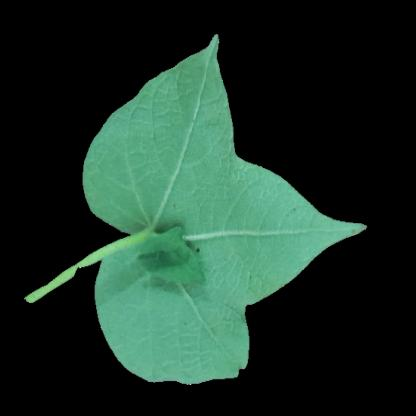curl_stage2: (122, 298, 245, 368), (155, 77, 217, 213), (217, 187, 298, 281), (101, 112, 155, 210)
leaf_enation: (123, 214, 215, 302)
